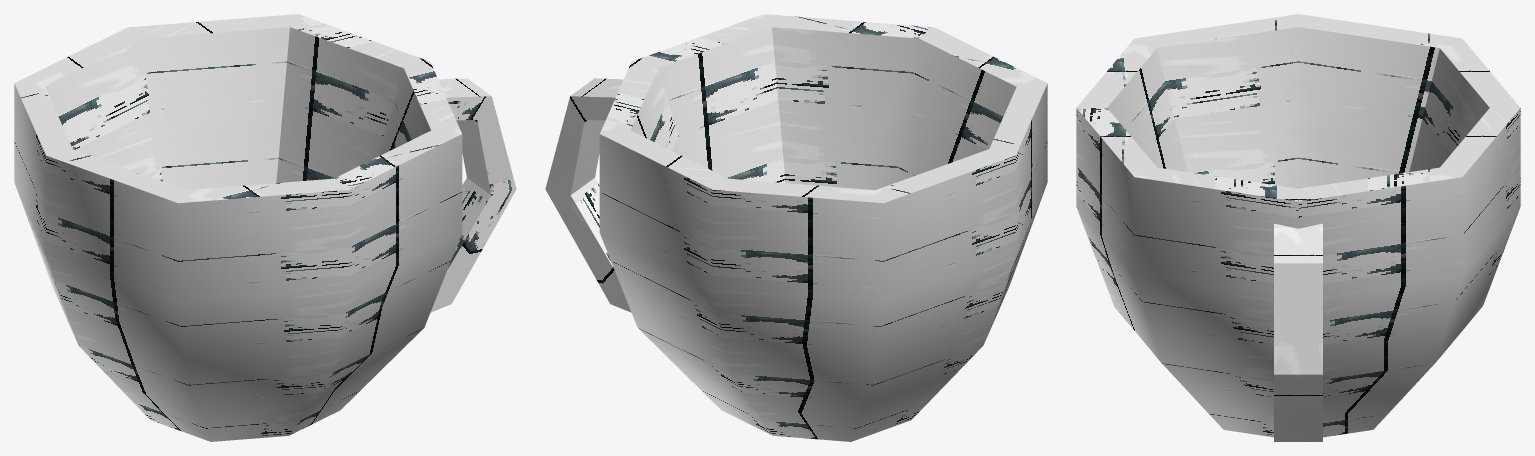
File: TeaCup.FBX
3 renders of one model, left to right at view 1: azimuth 30°, elevation 25°; view 2: azimuth 150°, elevation 25°; view 3: azimuth 270°, elevation 25°, orthographic.
Parts seen in each view (by area): view 1: TeaCup; view 2: TeaCup; view 3: TeaCup.
Boxes of the visible parts, x1,y1,x2,y2 form: TeaCup: [14, 14, 516, 441]; TeaCup: [545, 14, 1047, 441]; TeaCup: [1076, 14, 1520, 441].
Bounding box in the file's own units: 0.4151 × 0.3481 × 0.2511.
Materials: 1 (1 with a texture image).
